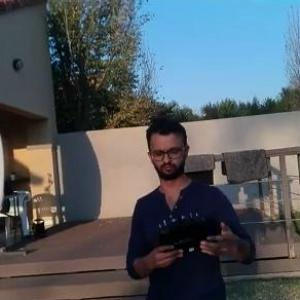follow: (117, 108, 262, 299)
